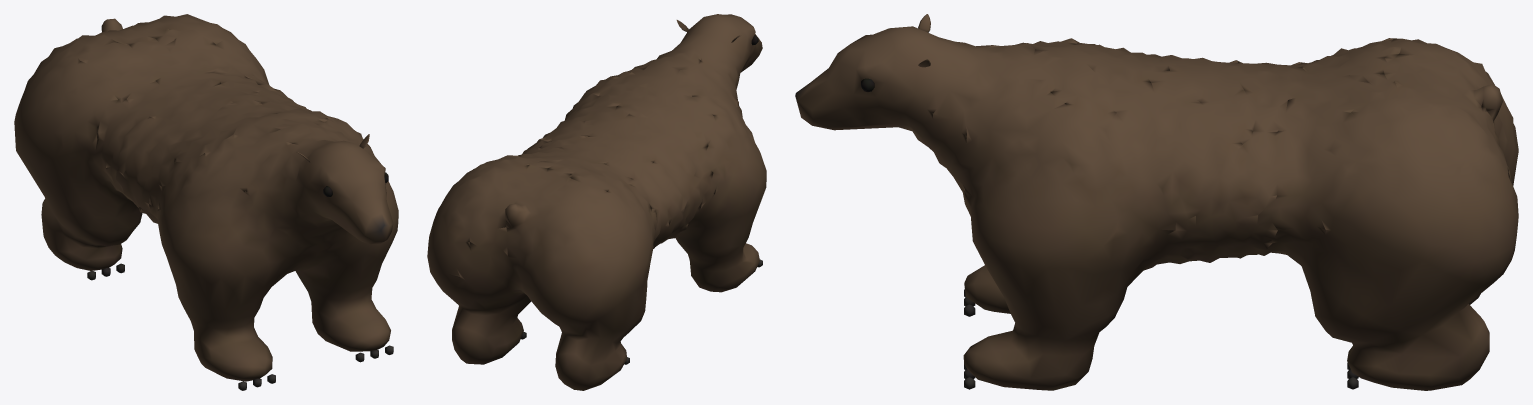
Rendered from baer.glb.
3 views of the same model, side by side, from view 1: azimuth 30°, elevation 25°; view 2: azimuth 150°, elevation 25°; view 3: azimuth 270°, elevation 25° (orthographic). The views are drawn at different scales.
Parts seen in each view (by area): view 1: lack; view 2: lack; view 3: lack.
Part boxes in pixels (x1=…): lack: x1=14, y1=14, x2=398, y2=390; lack: x1=427, y1=14, x2=766, y2=390; lack: x1=795, y1=14, x2=1518, y2=390.
Bounding box in the file's own units: 1.17 × 1.22 × 2.52.
